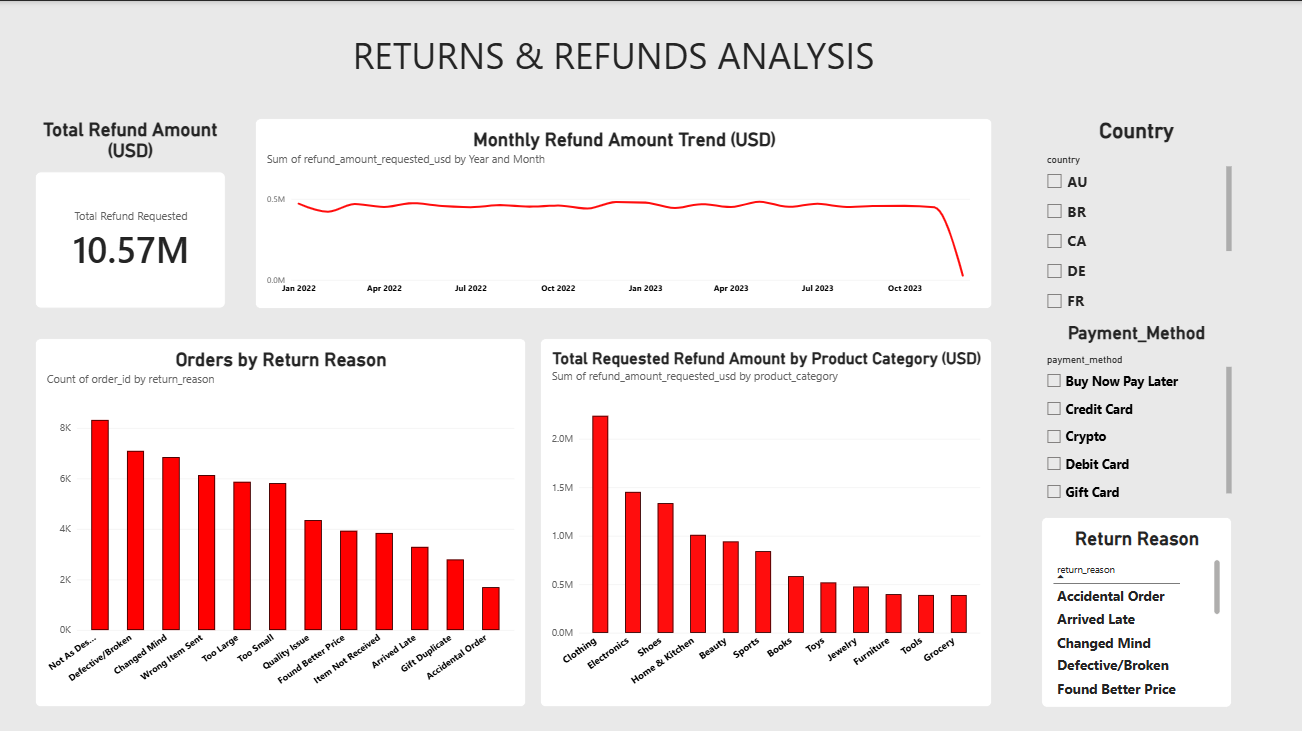

What the dashboard file says about the page in this screenshot:
{"tool":"powerbi","page":{"name":"Returns & Refund Analysis","canvas":[1920,1080],"ordinal":1},"visuals":[{"type":"cardVisual","title":"Total Refund Amount (USD)","fields":{"Data":["ecommerce_return_abuse_dataset.Total Refund Requested"]},"box":[52.5,172.5,280,280],"z":0},{"type":"clusteredColumnChart","title":"Orders by Return Reason","fields":{"Category":["ecommerce_return_abuse_dataset.return_reason"],"Y":["CountNonNull(vw_Ecommerce_PowerBI.order_id)"]},"box":[52.5,497.5,722.5,542.5],"z":1000},{"type":"clusteredColumnChart","title":"Total Requested Refund Amount by Product Category (USD)","fields":{"Category":["ecommerce_return_abuse_dataset.product_category"],"Y":["Sum(ecommerce_return_abuse_dataset.refund_amount_requested_usd)"]},"box":[797.5,497.5,665,542.5],"z":2000},{"type":"lineChart","title":"Monthly Refund Amount Trend (USD)","fields":{"Category":["ecommerce_return_abuse_dataset.order_date.Variation.Date Hierarchy.Year","ecommerce_return_abuse_dataset.order_date.Variation.Date Hierarchy.Month"],"Y":["Sum(ecommerce_return_abuse_dataset.refund_amount_requested_usd)"]},"box":[377.5,172.5,1085,280],"z":3000},{"type":"slicer","title":"Country","fields":{"Values":["ecommerce_return_abuse_dataset.country"]},"box":[1535,172.5,280,280],"z":4000},{"type":"slicer","title":"Payment_Method","fields":{"Values":["ecommerce_return_abuse_dataset.payment_method"]},"box":[1535,472.5,280,280],"z":5000},{"type":"tableEx","title":"Return Reason","fields":{"Values":["ecommerce_return_abuse_dataset.return_reason"]},"box":[1535,760,280,280],"z":6000},{"type":"textbox","box":[52.5,42.5,1717.5,237.5],"z":7000}]}

Visuals, with their boxes in screenshot pixels (x1, y1, x2, y2), scaled from the page's 1920x1080 canvas onto the 1302x731 screenshot:
"Total Refund Amount (USD)" cardVisual: [left=36, top=117, right=225, bottom=306]
"Orders by Return Reason" clusteredColumnChart: [left=36, top=337, right=526, bottom=704]
"Total Requested Refund Amount by Product Category (USD)" clusteredColumnChart: [left=541, top=337, right=992, bottom=704]
"Monthly Refund Amount Trend (USD)" lineChart: [left=256, top=117, right=992, bottom=306]
"Country" slicer: [left=1041, top=117, right=1231, bottom=306]
"Payment_Method" slicer: [left=1041, top=320, right=1231, bottom=509]
"Return Reason" tableEx: [left=1041, top=514, right=1231, bottom=704]
textbox: [left=36, top=29, right=1200, bottom=190]
